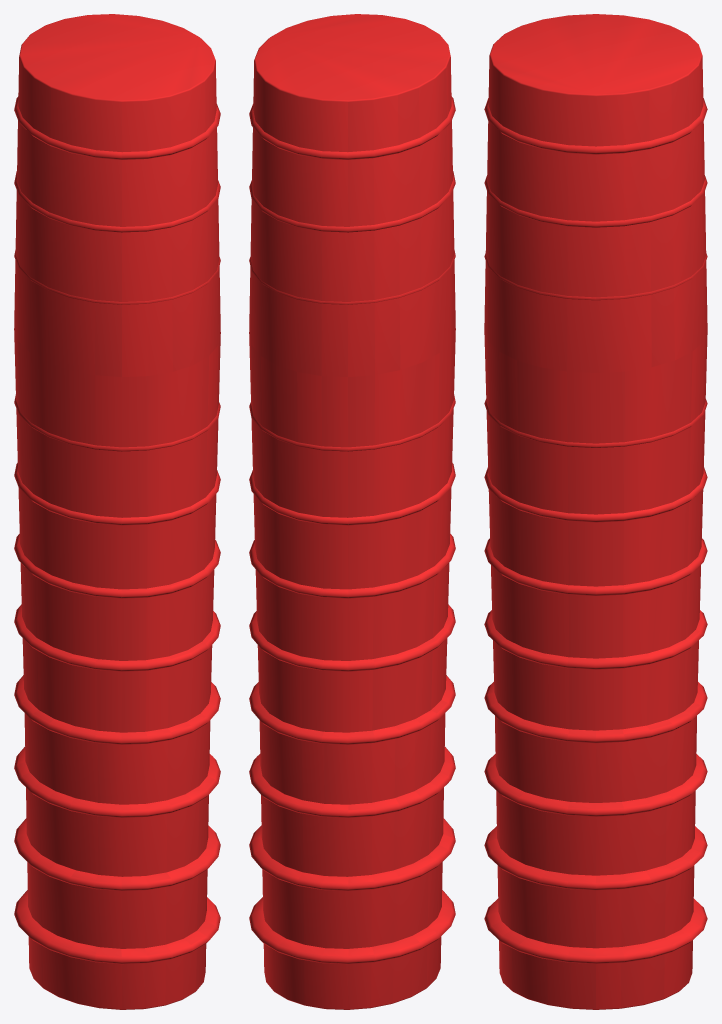
Rendered from SM_RV_Sleeve.fbx.
3 views of the same model, side by side, from view 1: azimuth 30°, elevation 25°; view 2: azimuth 150°, elevation 25°; view 3: azimuth 270°, elevation 25° (orthographic).
Visible parts, largest first — view 1: SM_RV_Sleeve; view 2: SM_RV_Sleeve; view 3: SM_RV_Sleeve.
Boxes of the visible parts, x1,y1,x2,y2 form: SM_RV_Sleeve: (14, 14, 220, 1009); SM_RV_Sleeve: (249, 14, 455, 1009); SM_RV_Sleeve: (484, 14, 707, 1009).
Bounding box in the file's own units: 22 × 20 × 100.
